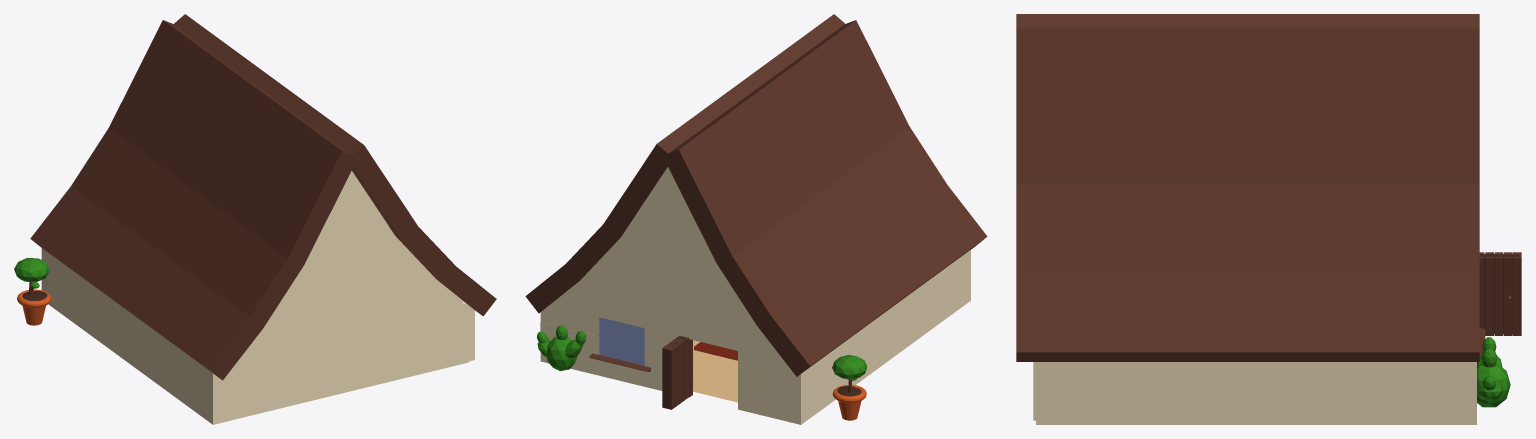
File: shop.glb
3 renders of one model, left to right at view 1: azimuth 30°, elevation 25°; view 2: azimuth 150°, elevation 25°; view 3: azimuth 270°, elevation 25°, orthographic. The views are drawn at different scales.
Visible parts, largest first — view 1: Cube.038, Cube.041, Cube.003, Cube.001, Cube.039, Icosphere.078; view 2: Cube.038, Cube.040, Cube.039, Cube.001, Cube.006, Cube.028, Cube.013, Cube.005, Cube.043, Cube.033, Icosphere.006, Icosphere.078 (+3 smaller); view 3: Cube.039, Cube.002, Cube.038, Cube.034, Icosphere.006, Cube.033, Cube.035, Cube.032, Cube.031.
Boxes of the visible parts, x1,y1,x2,y2 form: Cube.038: [30, 20, 352, 380]; Cube.041: [240, 171, 462, 357]; Cube.003: [232, 302, 468, 419]; Cube.001: [47, 252, 232, 424]; Cube.039: [174, 14, 496, 316]; Icosphere.078: [14, 257, 49, 282]; Cube.038: [663, 20, 987, 376]; Cube.040: [550, 167, 783, 361]; Cube.039: [525, 14, 844, 313]; Cube.001: [806, 250, 970, 420]; Cube.006: [738, 350, 806, 424]; Cube.028: [693, 340, 737, 402]; Cube.013: [599, 317, 644, 365]; Cube.005: [540, 352, 693, 390]; Cube.043: [540, 305, 599, 336]; Cube.033: [662, 345, 674, 409]; Icosphere.006: [546, 336, 577, 370]; Icosphere.078: [832, 354, 867, 379]; Cube.039: [1016, 27, 1479, 361]; Cube.002: [1036, 362, 1464, 424]; Cube.038: [1016, 14, 1479, 27]; Cube.034: [1494, 252, 1503, 335]; Icosphere.006: [1477, 363, 1510, 407]; Cube.033: [1513, 252, 1521, 335]; Cube.035: [1485, 252, 1493, 335]; Cube.032: [1504, 252, 1512, 335]; Cube.031: [1479, 254, 1519, 334].
Size of the model in its own units: 23.9 by 17.85 by 25.07.
